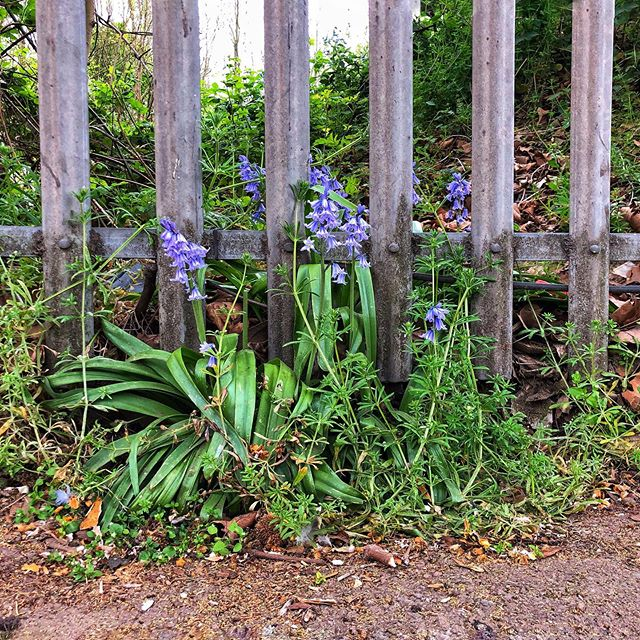vegetation: (7, 252, 588, 528)
